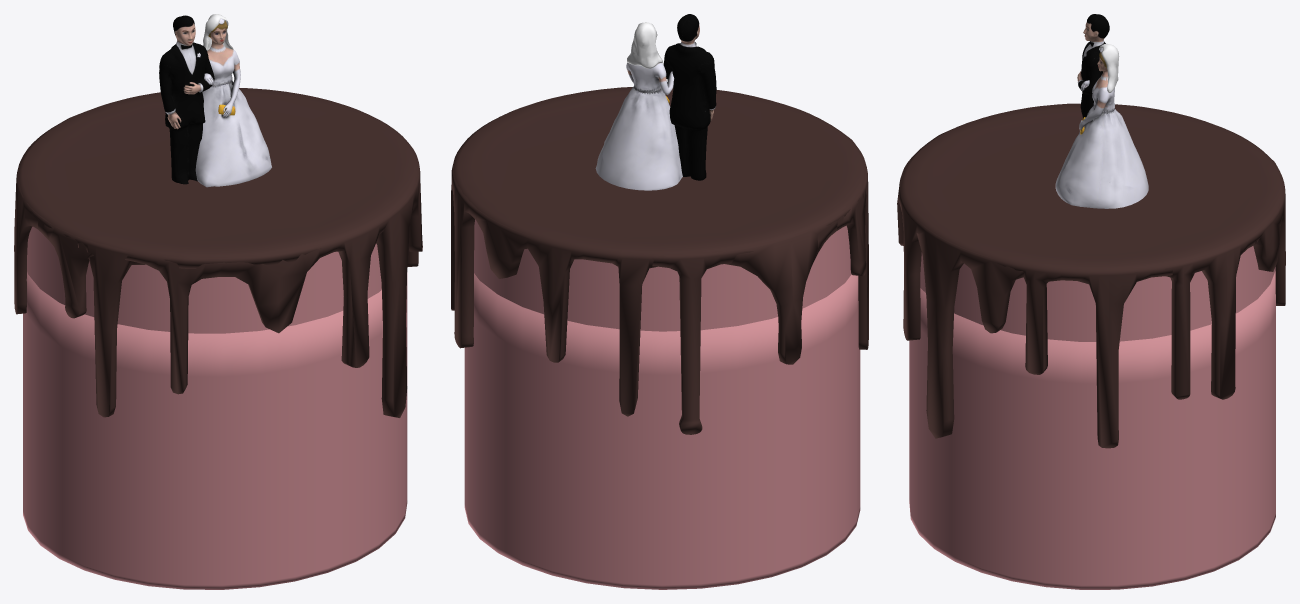
The model's file is 1-tier-blush-ganache-bridegroom.glb.
3 renders of one model, left to right at view 1: azimuth 30°, elevation 25°; view 2: azimuth 150°, elevation 25°; view 3: azimuth 270°, elevation 25°, orthographic. The views are drawn at different scales.
Visible parts, largest first — view 1: Cylinder.019, tHE ICING, 13501_Cake_Topper_Bride_Groom_v1_L1.004; view 2: Cylinder.019, tHE ICING, 13501_Cake_Topper_Bride_Groom_v1_L1.004; view 3: Cylinder.019, tHE ICING, 13501_Cake_Topper_Bride_Groom_v1_L1.004.
Part boxes in pixels (box(x1,y1,x2,y2)): Cylinder.019: box(23, 226, 407, 589); tHE ICING: box(14, 88, 422, 417); 13501_Cake_Topper_Bride_Groom_v1_L1.004: box(159, 14, 271, 187); Cylinder.019: box(464, 219, 860, 589); tHE ICING: box(451, 87, 868, 434); 13501_Cake_Topper_Bride_Groom_v1_L1.004: box(595, 14, 716, 190); Cylinder.019: box(909, 246, 1275, 589); tHE ICING: box(897, 103, 1285, 448); 13501_Cake_Topper_Bride_Groom_v1_L1.004: box(1055, 14, 1148, 208).
Size of the model in its own units: 2.8 by 3.7 by 2.71.
3 materials, 1 textured.
